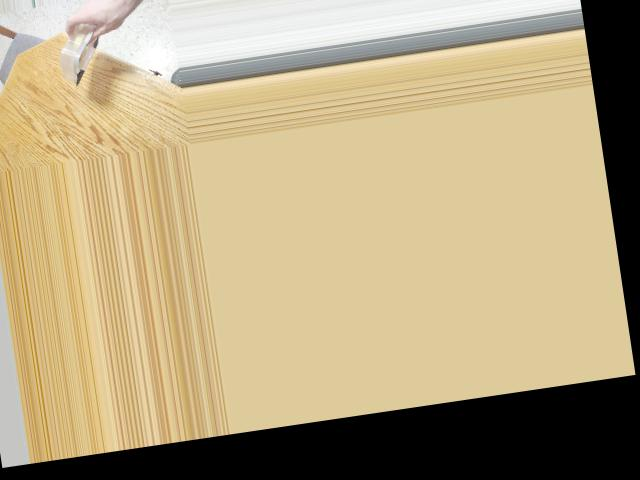cheese: (36, 4, 126, 76)
